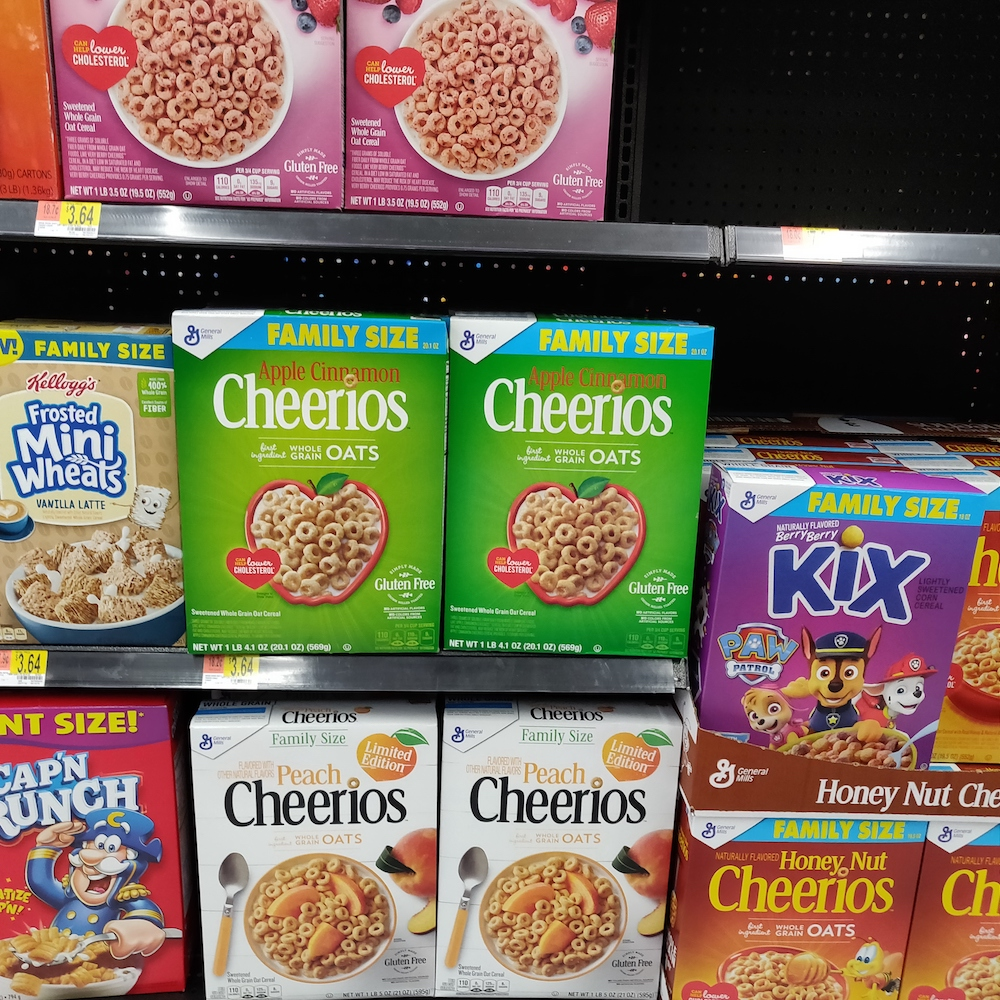Kix Berry -568919964: (722, 473, 950, 773)
